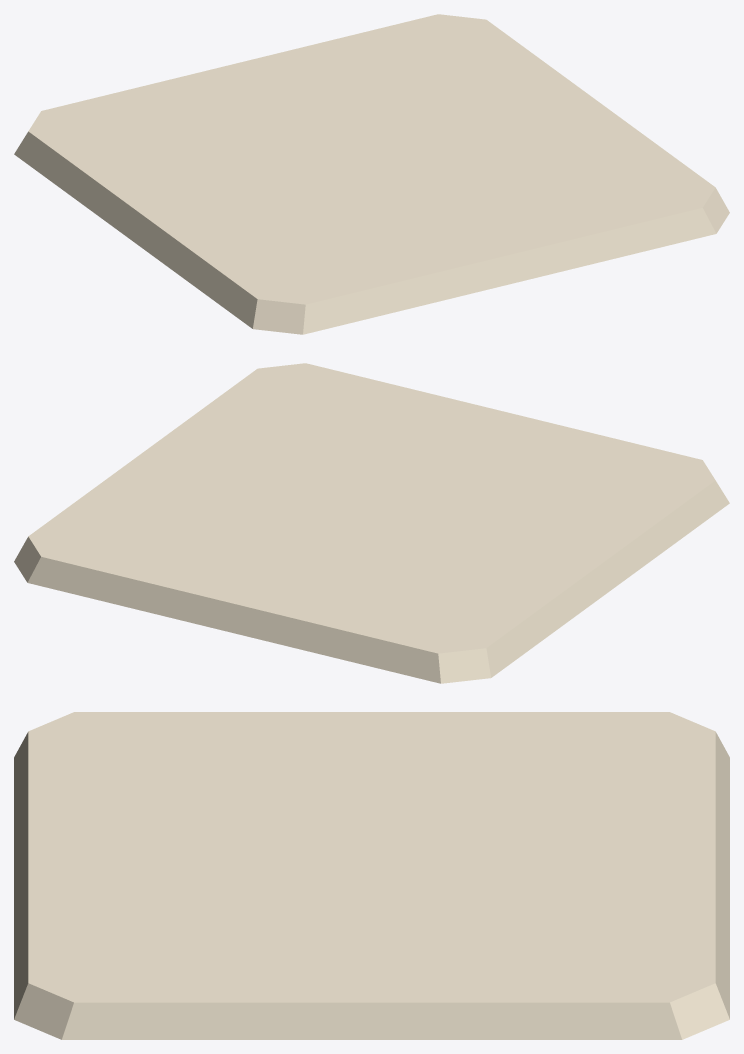
The model's file is SunnyLoop_Space_Inlay_Square_v1.glb.
3 renders of one model, top to bottom at view 1: azimuth 30°, elevation 25°; view 2: azimuth 150°, elevation 25°; view 3: azimuth 270°, elevation 25°, orthographic. The views are drawn at different scales.
Visible parts, largest first — view 1: SunnyLoop_Space_Inlay_Square_v1; view 2: SunnyLoop_Space_Inlay_Square_v1; view 3: SunnyLoop_Space_Inlay_Square_v1.
Boxes of the visible parts, <box> form: SunnyLoop_Space_Inlay_Square_v1: <box>14,14,729,334</box>; SunnyLoop_Space_Inlay_Square_v1: <box>14,363,729,683</box>; SunnyLoop_Space_Inlay_Square_v1: <box>14,712,729,1039</box>.
Size of the model in its own units: 1.68 by 0.0812 by 1.68.
